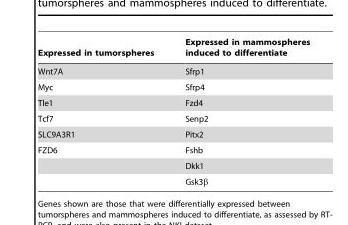table: (37, 37, 309, 185)
table column: (168, 37, 309, 185), (37, 37, 168, 185)
table column header: (37, 37, 309, 61)
table row: (37, 37, 309, 61), (37, 61, 309, 79), (37, 94, 309, 110), (37, 110, 309, 126), (37, 126, 309, 142), (37, 157, 309, 173), (37, 79, 309, 94), (37, 142, 309, 157), (37, 173, 309, 185)
table spanning cell: (37, 142, 168, 185)
